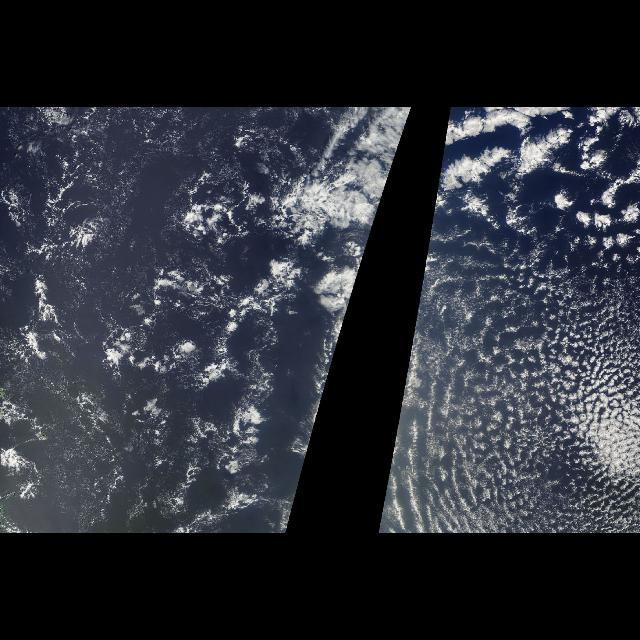Flower: (395, 107, 639, 527), (387, 108, 413, 182)
Gravel: (34, 132, 250, 396)
Sugar: (18, 281, 256, 534), (418, 255, 628, 533), (6, 117, 162, 267)
